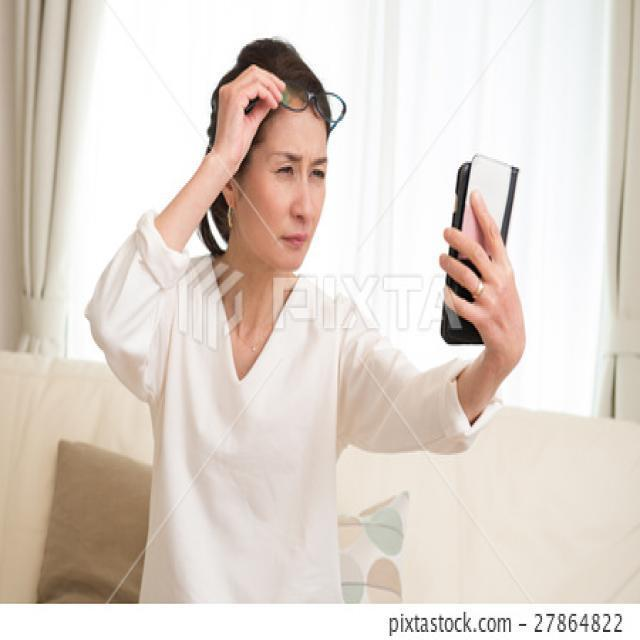Phone: (441, 154, 521, 342)
